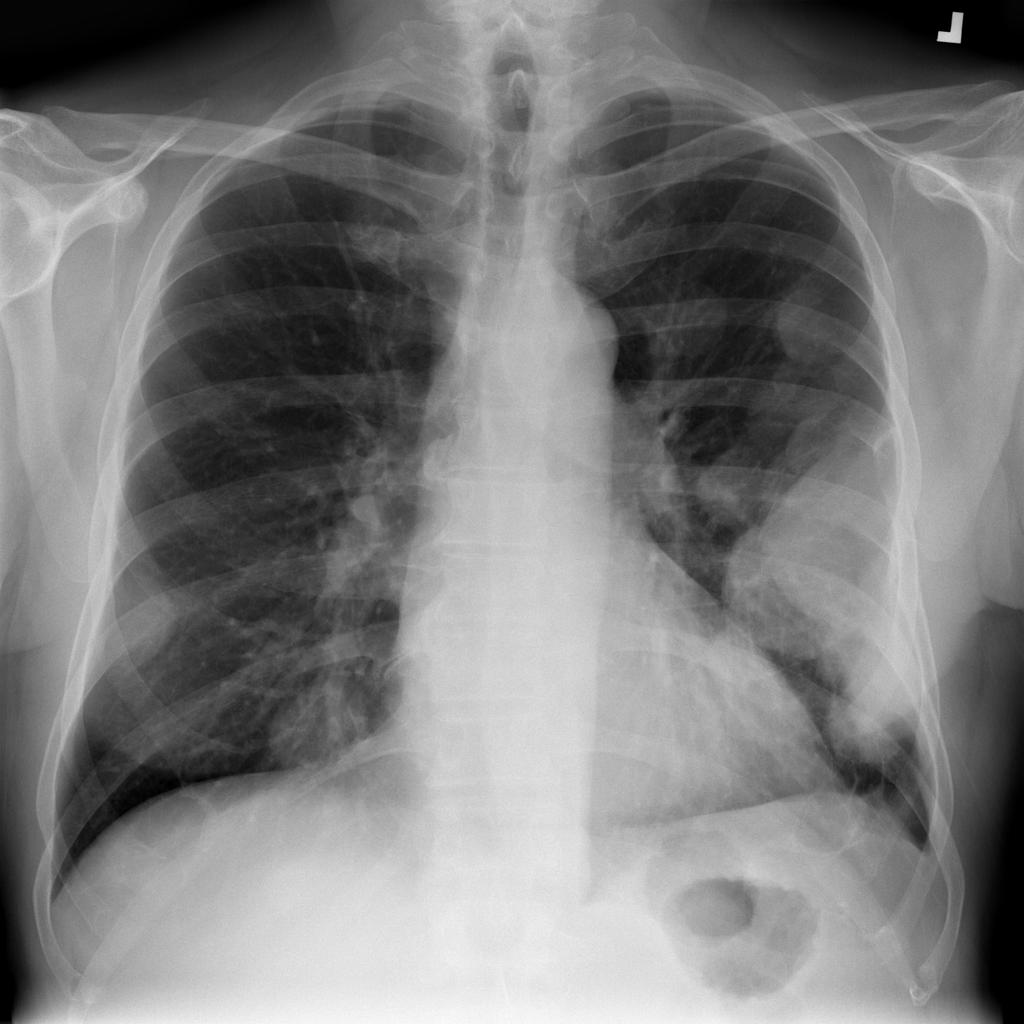nodule: (749, 458, 918, 646), (250, 657, 388, 790), (809, 650, 934, 778), (90, 555, 200, 687), (758, 261, 856, 379), (679, 431, 782, 539), (634, 274, 744, 374)
